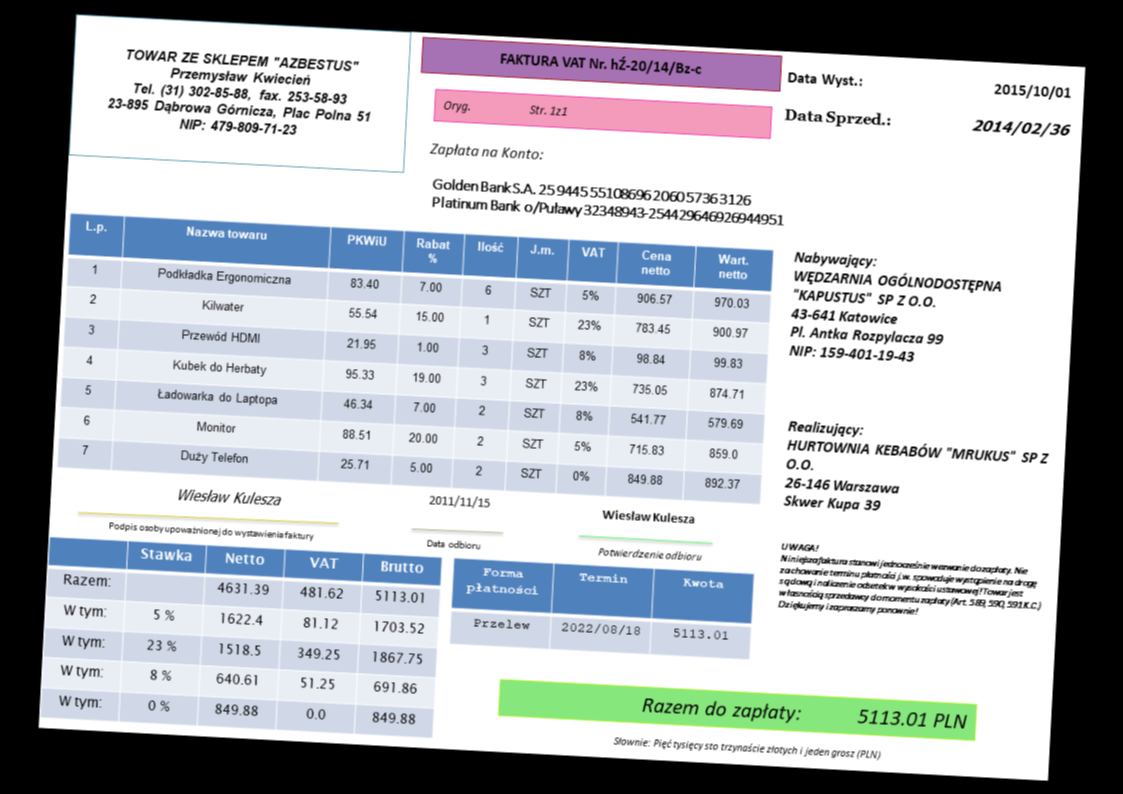Table: (55, 210, 773, 503), (40, 535, 442, 738), (447, 556, 755, 660)
TextBox: (781, 416, 1051, 522), (103, 45, 377, 143), (787, 249, 1007, 370), (774, 539, 1047, 624), (429, 175, 788, 229), (638, 692, 969, 732), (611, 733, 882, 763), (498, 47, 704, 79), (106, 517, 315, 543), (426, 138, 545, 164), (783, 106, 894, 131), (174, 484, 284, 509), (440, 97, 569, 118), (970, 116, 1072, 142), (599, 504, 698, 527), (595, 544, 704, 564), (991, 80, 1072, 101), (786, 69, 865, 90), (425, 491, 492, 511), (423, 536, 481, 551)
